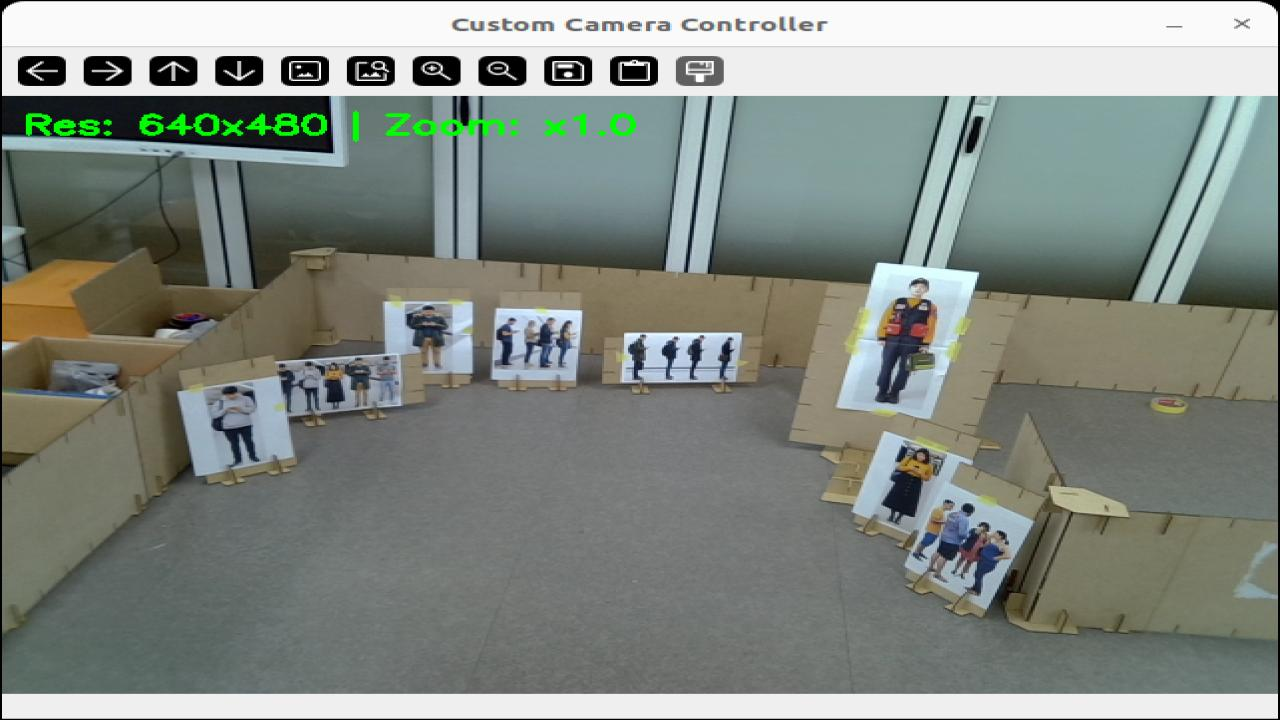Crowd: (881, 448, 931, 523), (211, 386, 255, 462), (967, 531, 1007, 594), (913, 500, 953, 556), (413, 305, 447, 367), (935, 504, 971, 559), (953, 522, 985, 578), (347, 358, 371, 406), (375, 356, 397, 402), (301, 361, 319, 410), (325, 365, 343, 409), (498, 319, 514, 365), (628, 335, 644, 379), (662, 338, 678, 379), (540, 318, 552, 367), (558, 321, 570, 366), (690, 336, 702, 379), (526, 321, 536, 365), (720, 338, 730, 379), (245, 431, 255, 458)
Responder: (875, 278, 935, 403)
